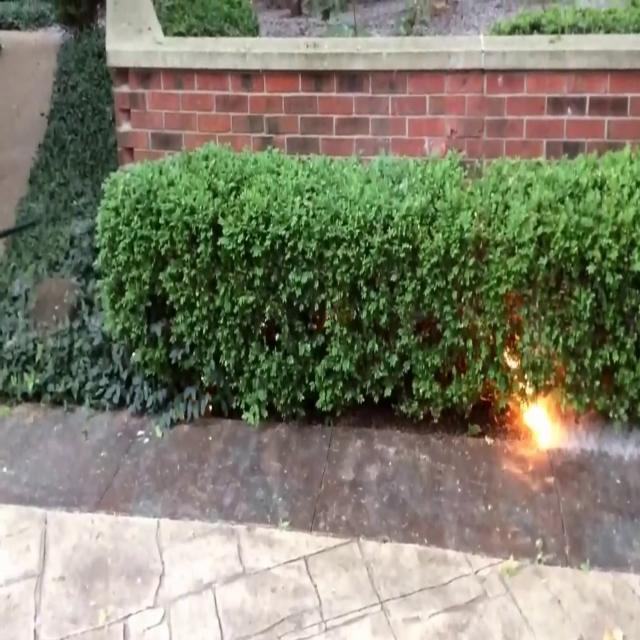Fire: (518, 389, 564, 457)
